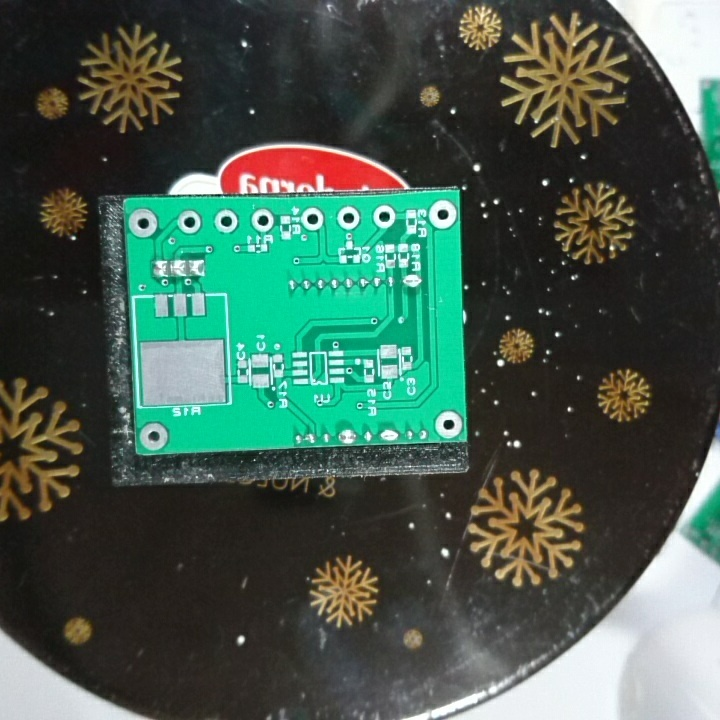F: (137, 419, 172, 451), (127, 206, 159, 240), (432, 409, 465, 440), (425, 199, 459, 229), (174, 208, 203, 235), (211, 209, 240, 235), (248, 207, 277, 233), (299, 204, 325, 233), (371, 203, 398, 229), (335, 206, 360, 232)
P: (376, 425, 400, 444), (337, 426, 359, 445), (400, 271, 424, 288)
